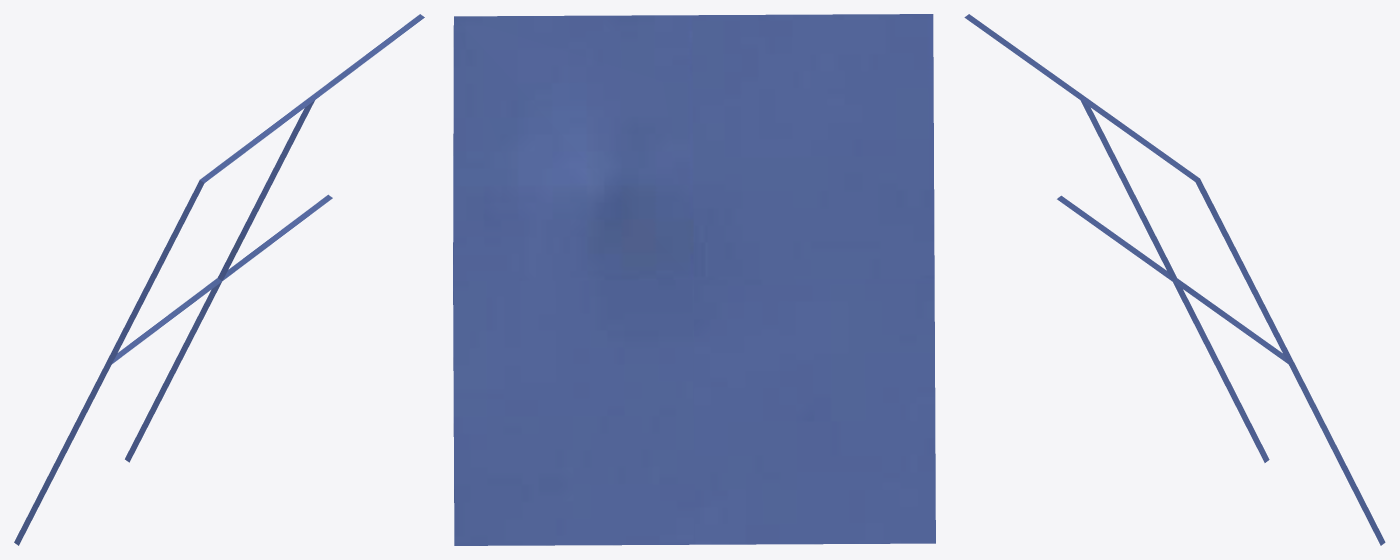
3 renders of one model, left to right at view 1: azimuth 30°, elevation 25°; view 2: azimuth 150°, elevation 25°; view 3: azimuth 270°, elevation 25°, orthographic. The views are drawn at different scales.
Bounding box in the file's own units: 19664 × 17812 × 16512.
1 material, 1 textured.
